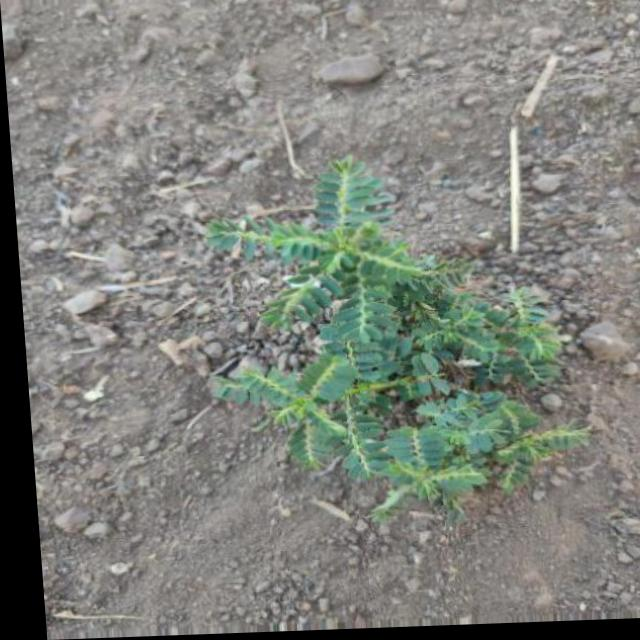weed: (142, 154, 585, 541)
